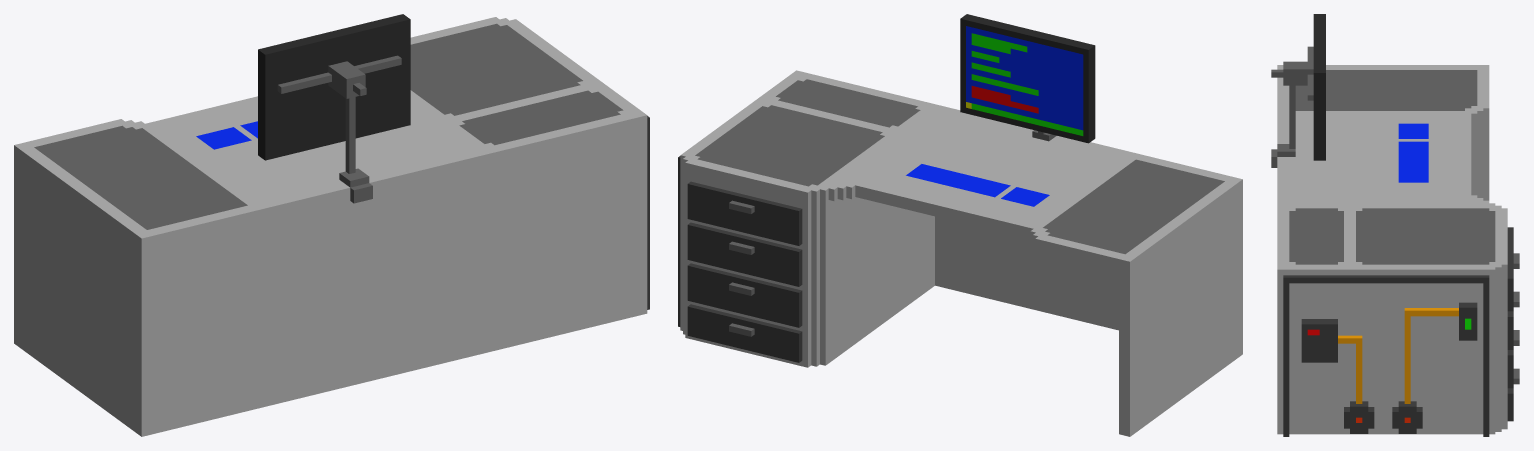
File: Environment_UntiledLabs_Furniture-3.obj
3 views of the same model, side by side, from view 1: azimuth 30°, elevation 25°; view 2: azimuth 150°, elevation 25°; view 3: azimuth 270°, elevation 25° (orthographic). The views are drawn at different scales.
Bounding box in the file's own units: 8.2 × 5 × 4.1.
Materials: 1 (1 with a texture image).
